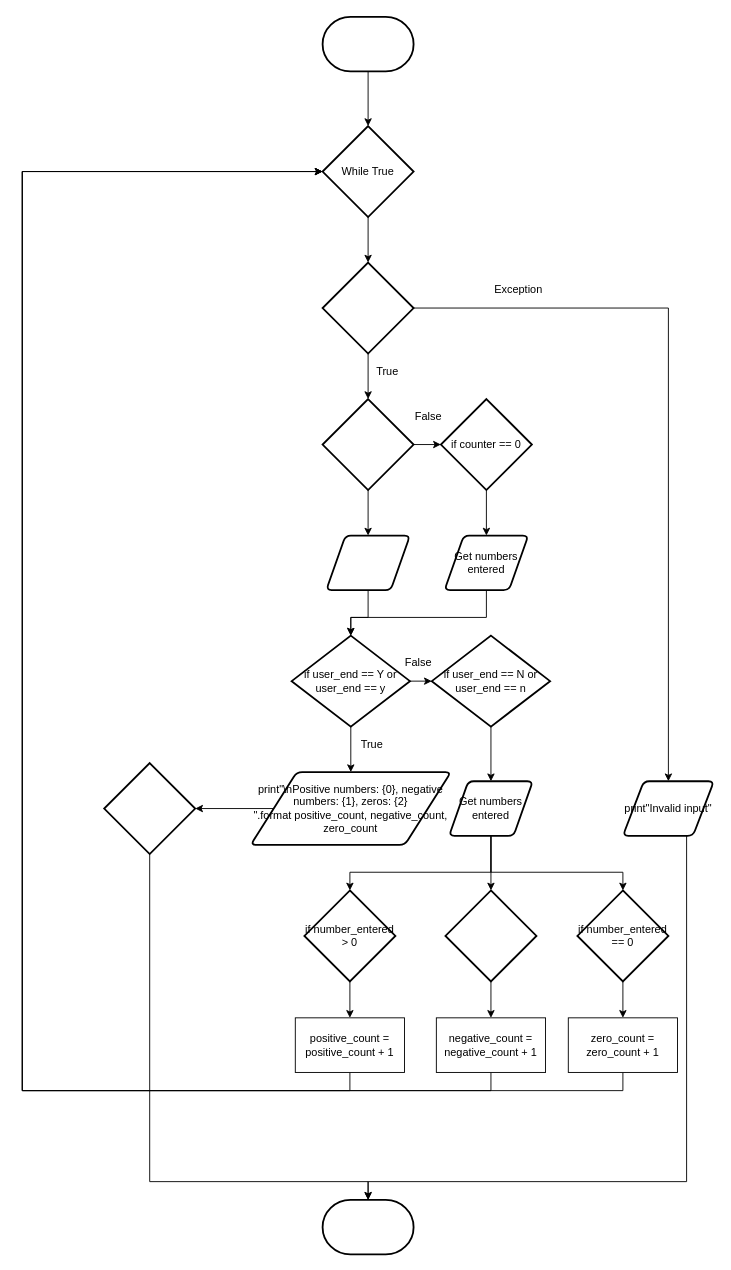
Some shapes in this 731 by 1270 pixel diagram are drawn without their labels. The shapes that lost their labels are listed below. From the top down, each one's centre as x and y in pixels, then its label:
the point at 367,43: Start
the point at 367,307: try
the point at 367,444: if counter == 1
the point at 367,562: Get user end
the point at 149,808: break
the point at 490,935: if number_entered < 0
the point at 367,1226: Stop
